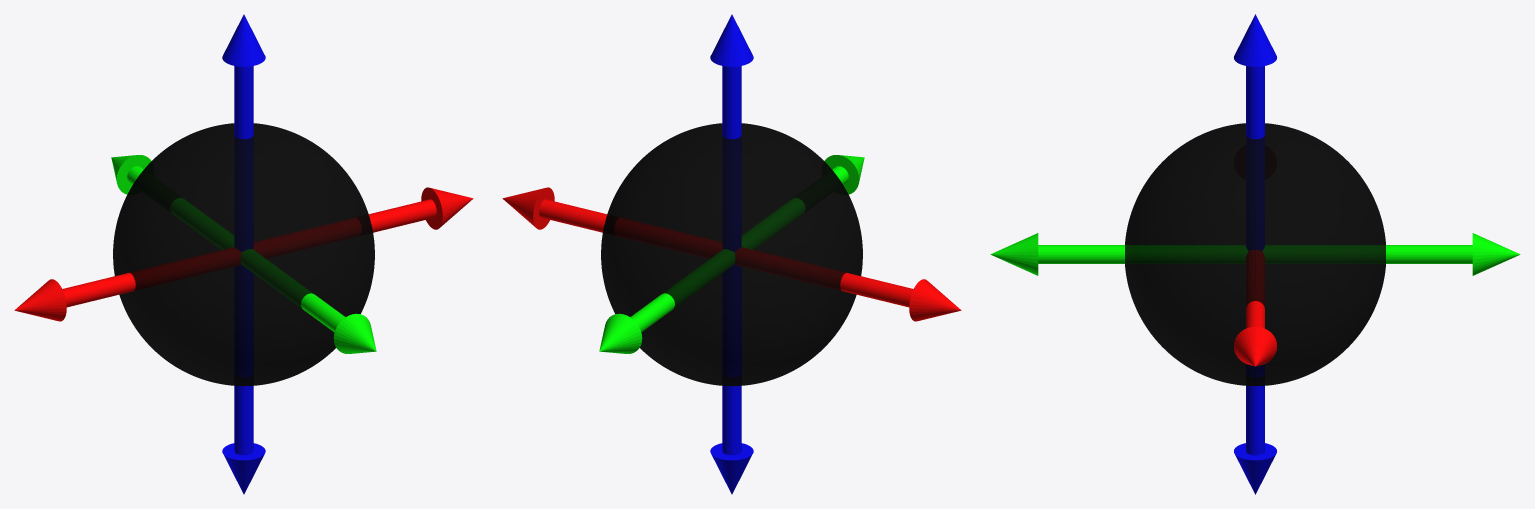
Rendered from gimbal.fbx.
3 renders of one model, left to right at view 1: azimuth 30°, elevation 25°; view 2: azimuth 150°, elevation 25°; view 3: azimuth 270°, elevation 25°, orthographic.
Parts seen in each view (by area): view 1: Sphere, Z, X, Y; view 2: Sphere, Z, X, Y; view 3: Sphere, Y, Z, X.
Boxes of the visible parts, left/top/right/bottom form: Sphere: left=113, top=123, right=374, bottom=386; Z: left=222, top=14, right=265, bottom=494; X: left=14, top=187, right=473, bottom=321; Y: left=111, top=155, right=376, bottom=353; Sphere: left=601, top=123, right=862, bottom=386; Z: left=710, top=14, right=753, bottom=494; X: left=502, top=187, right=961, bottom=321; Y: left=599, top=155, right=864, bottom=353; Sphere: left=1125, top=123, right=1385, bottom=386; Y: left=990, top=233, right=1520, bottom=275; Z: left=1234, top=14, right=1276, bottom=494; X: left=1233, top=250, right=1277, bottom=366.
Bounding box in the file's own units: 440 × 440 × 440.
